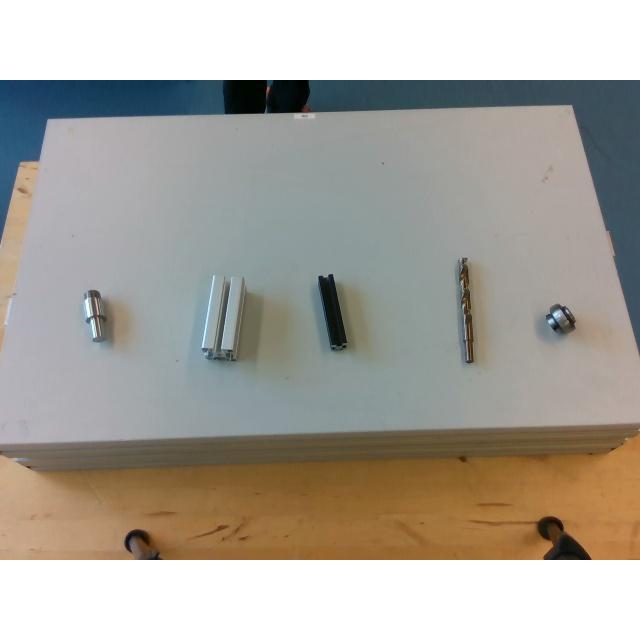Axis2: (83, 288, 107, 339)
Bearing2: (546, 304, 576, 336)
Drill: (458, 258, 474, 362)
M20_100: (318, 274, 346, 350)
S40_40_G: (201, 274, 243, 358)
